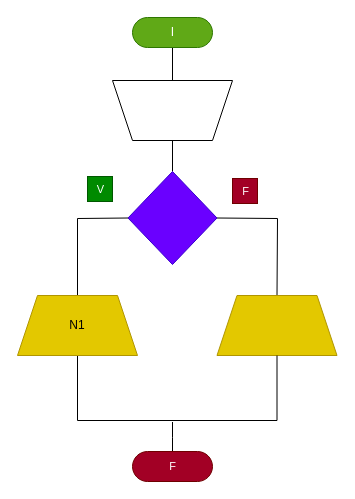
This 355x499 diagram has some shape labels left out. The centre of each missing label's shape, as x and y in pixels:
N1 < N2: the point at 172,217
N1,N2: the point at 172,110
N2: the point at 276,325
